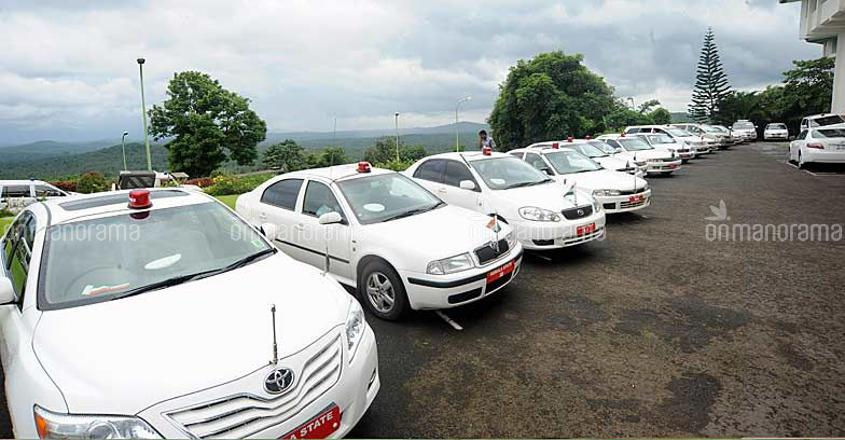Emergency-Vehicles: (219, 164, 532, 315)
